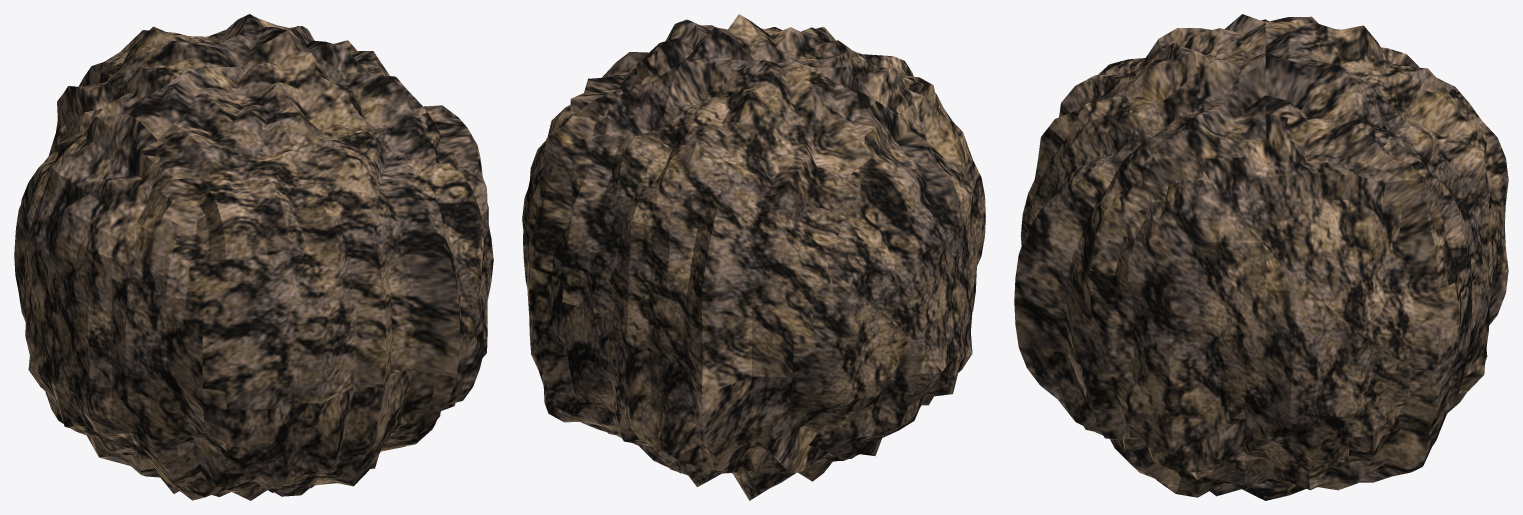
File: asteroid71.obj
3 renders of one model, left to right at view 1: azimuth 30°, elevation 25°; view 2: azimuth 150°, elevation 25°; view 3: azimuth 270°, elevation 25°, orthographic. The views are drawn at different scales.
Visible parts, largest first — view 1: Cube_Cube.002; view 2: Cube_Cube.002; view 3: Cube_Cube.002.
Boxes of the visible parts, x1,y1,x2,y2 form: Cube_Cube.002: [14, 14, 493, 500]; Cube_Cube.002: [522, 14, 985, 500]; Cube_Cube.002: [1014, 14, 1508, 500].
Size of the model in its own units: 1.82 by 1.82 by 1.83.
